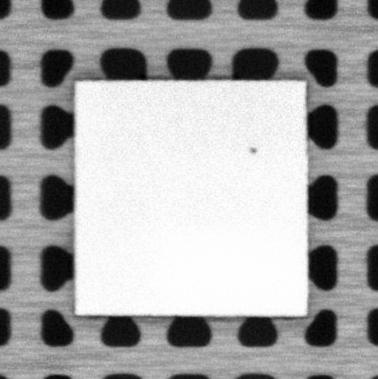DIE_INK: (247, 144, 260, 156)
